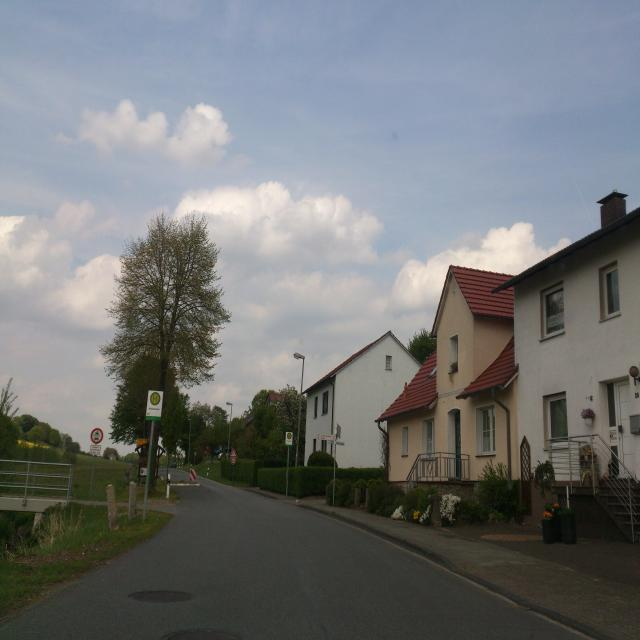Good: (156, 624, 246, 640), (122, 586, 196, 605)
